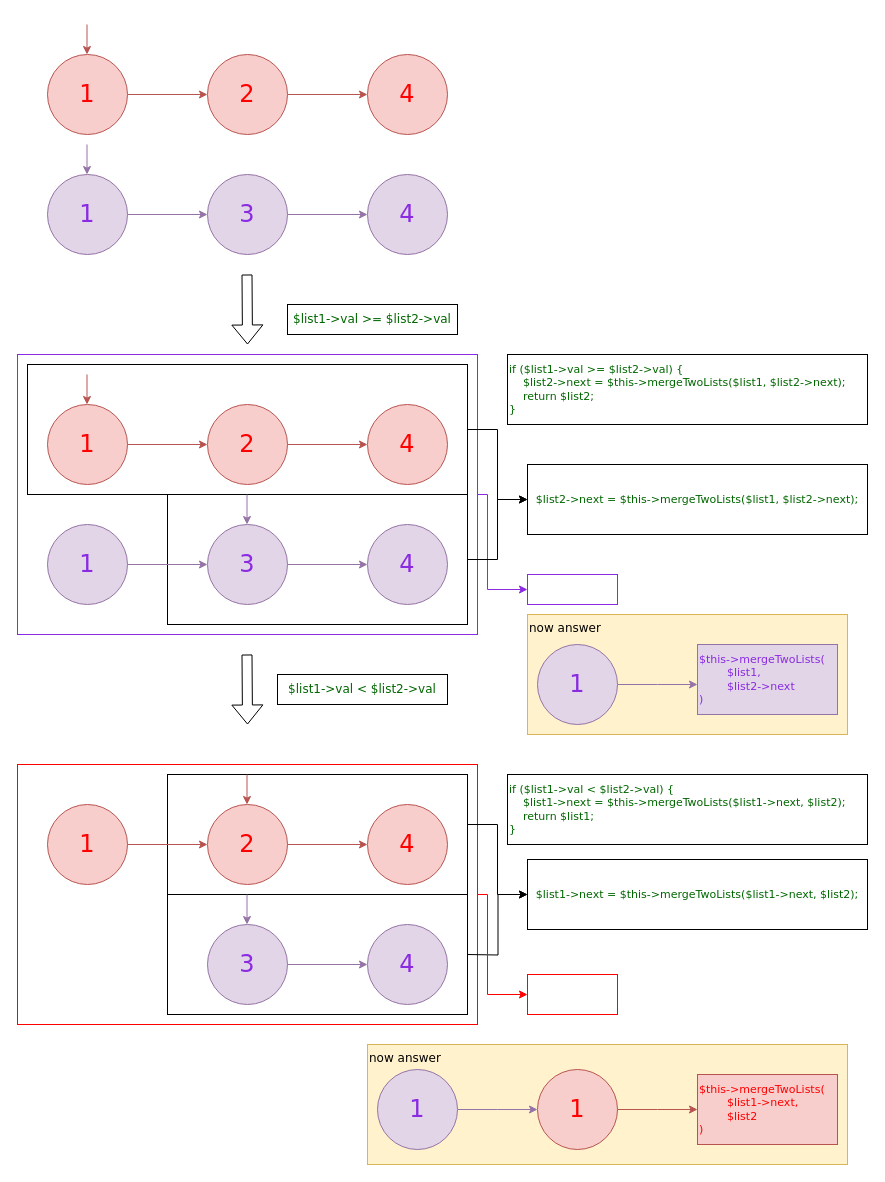
This 885x1182 diagram has some shape labels left out. The shapes that lost their labels are listed below. From the top down, each one's centre as x and y in pixels, then its label:
At (x=572, y=589): "return list2".
At (x=572, y=994): "return list1".
